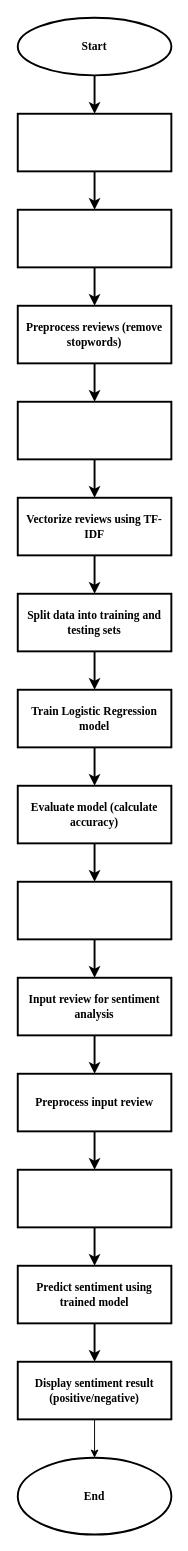
Some shapes in this 188 by 1551 pixel diagram are drawn without their labels. The shapes that lost their labels are listed below. From the top down, each one's box as (x1, y1, x2, y2) in pixels, then its label:
(16, 112, 172, 172): Load Amazon review dataset
(16, 208, 172, 268): Clean data (remove NaN values)
(16, 400, 172, 460): Visualize data (sentiment distribution, word cloud)
(16, 880, 172, 940): Save trained model and TF-IDF vectorizer
(16, 1168, 172, 1228): Vectorize input review using saved TF-IDF vectorizer
